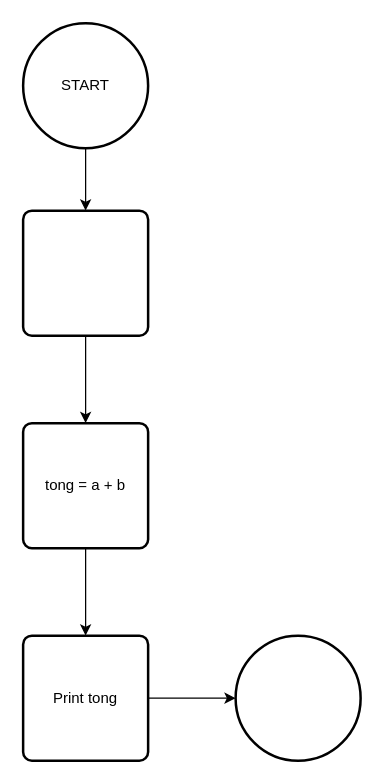
Some shapes in this 383 by 783 pixel diagram are drawn without their labels. The shapes that lost their labels are listed below. From the top down, each one's centre as x and y in pixels, then its label:
point (85, 272): Input a,b
point (297, 697): END
